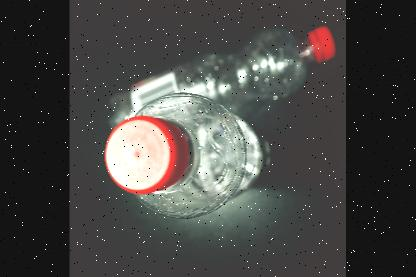Plastic Bottle: (102, 90, 264, 218)
